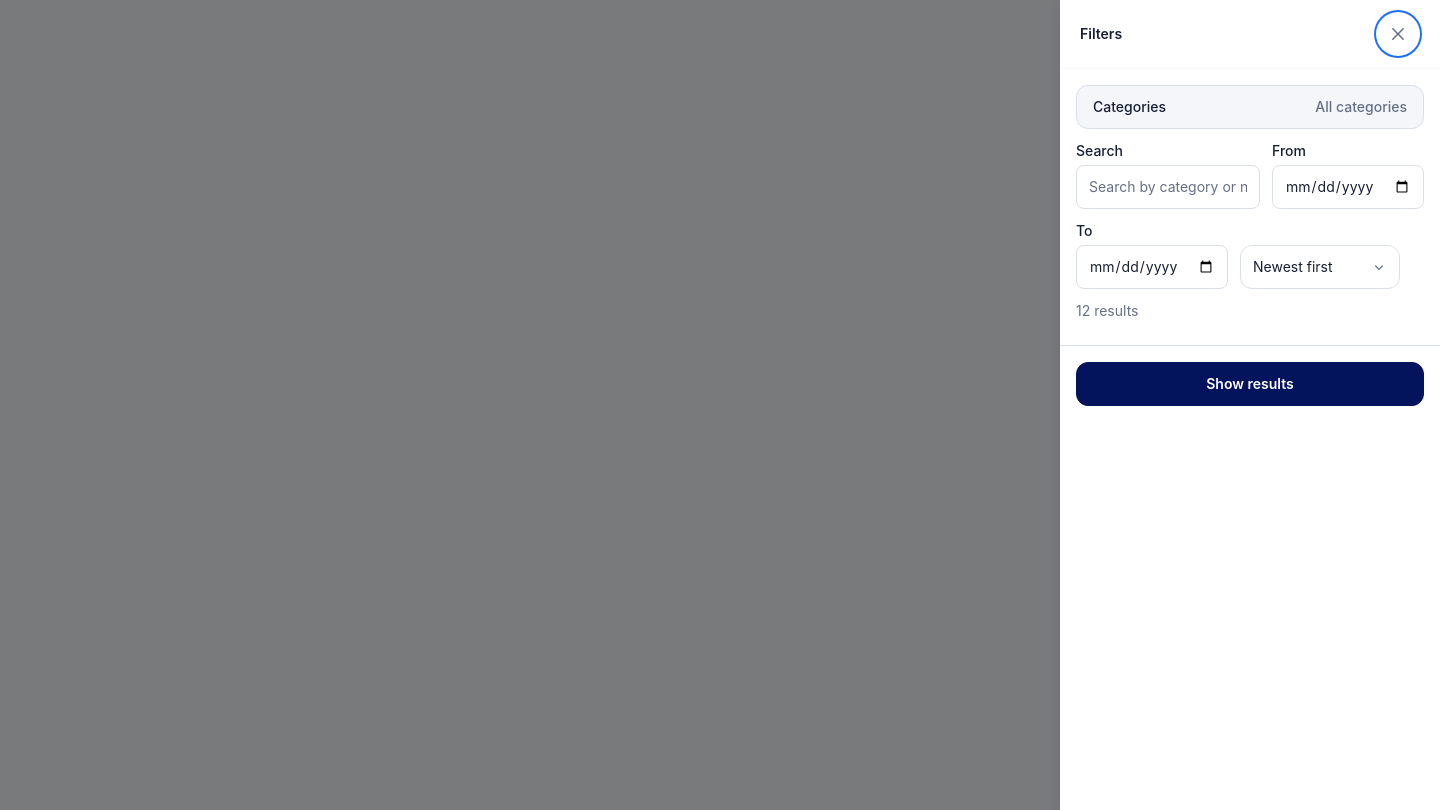
Test: FilterSheet variant="right" (desktop drawer) › keeps the Select portal container inside the drawer content
The image size is (1440, 810).
Click the dropdown named "Sort": (1320, 267) [1240,245,1400,289]
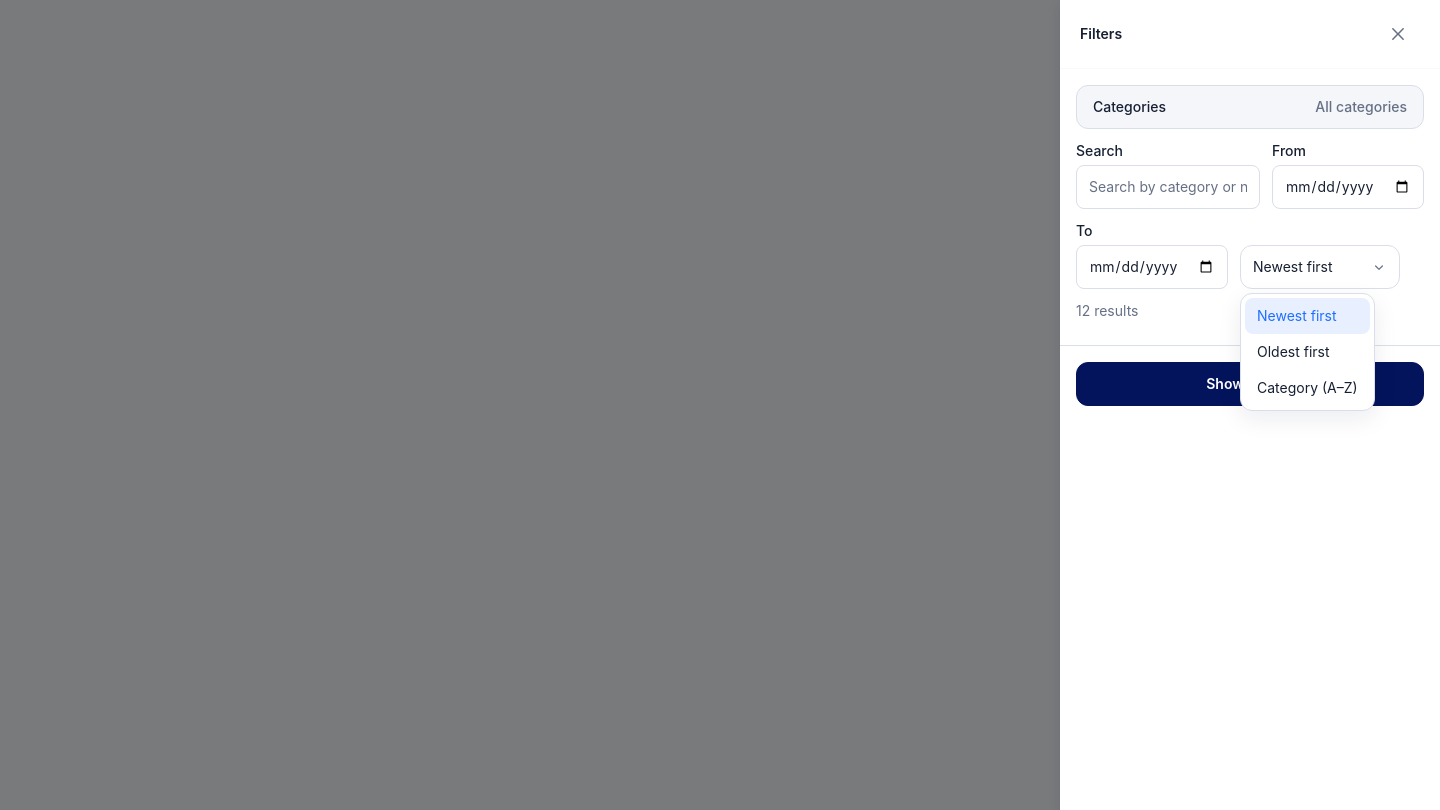
Result: the list is shown at [1240,293,1375,411]
